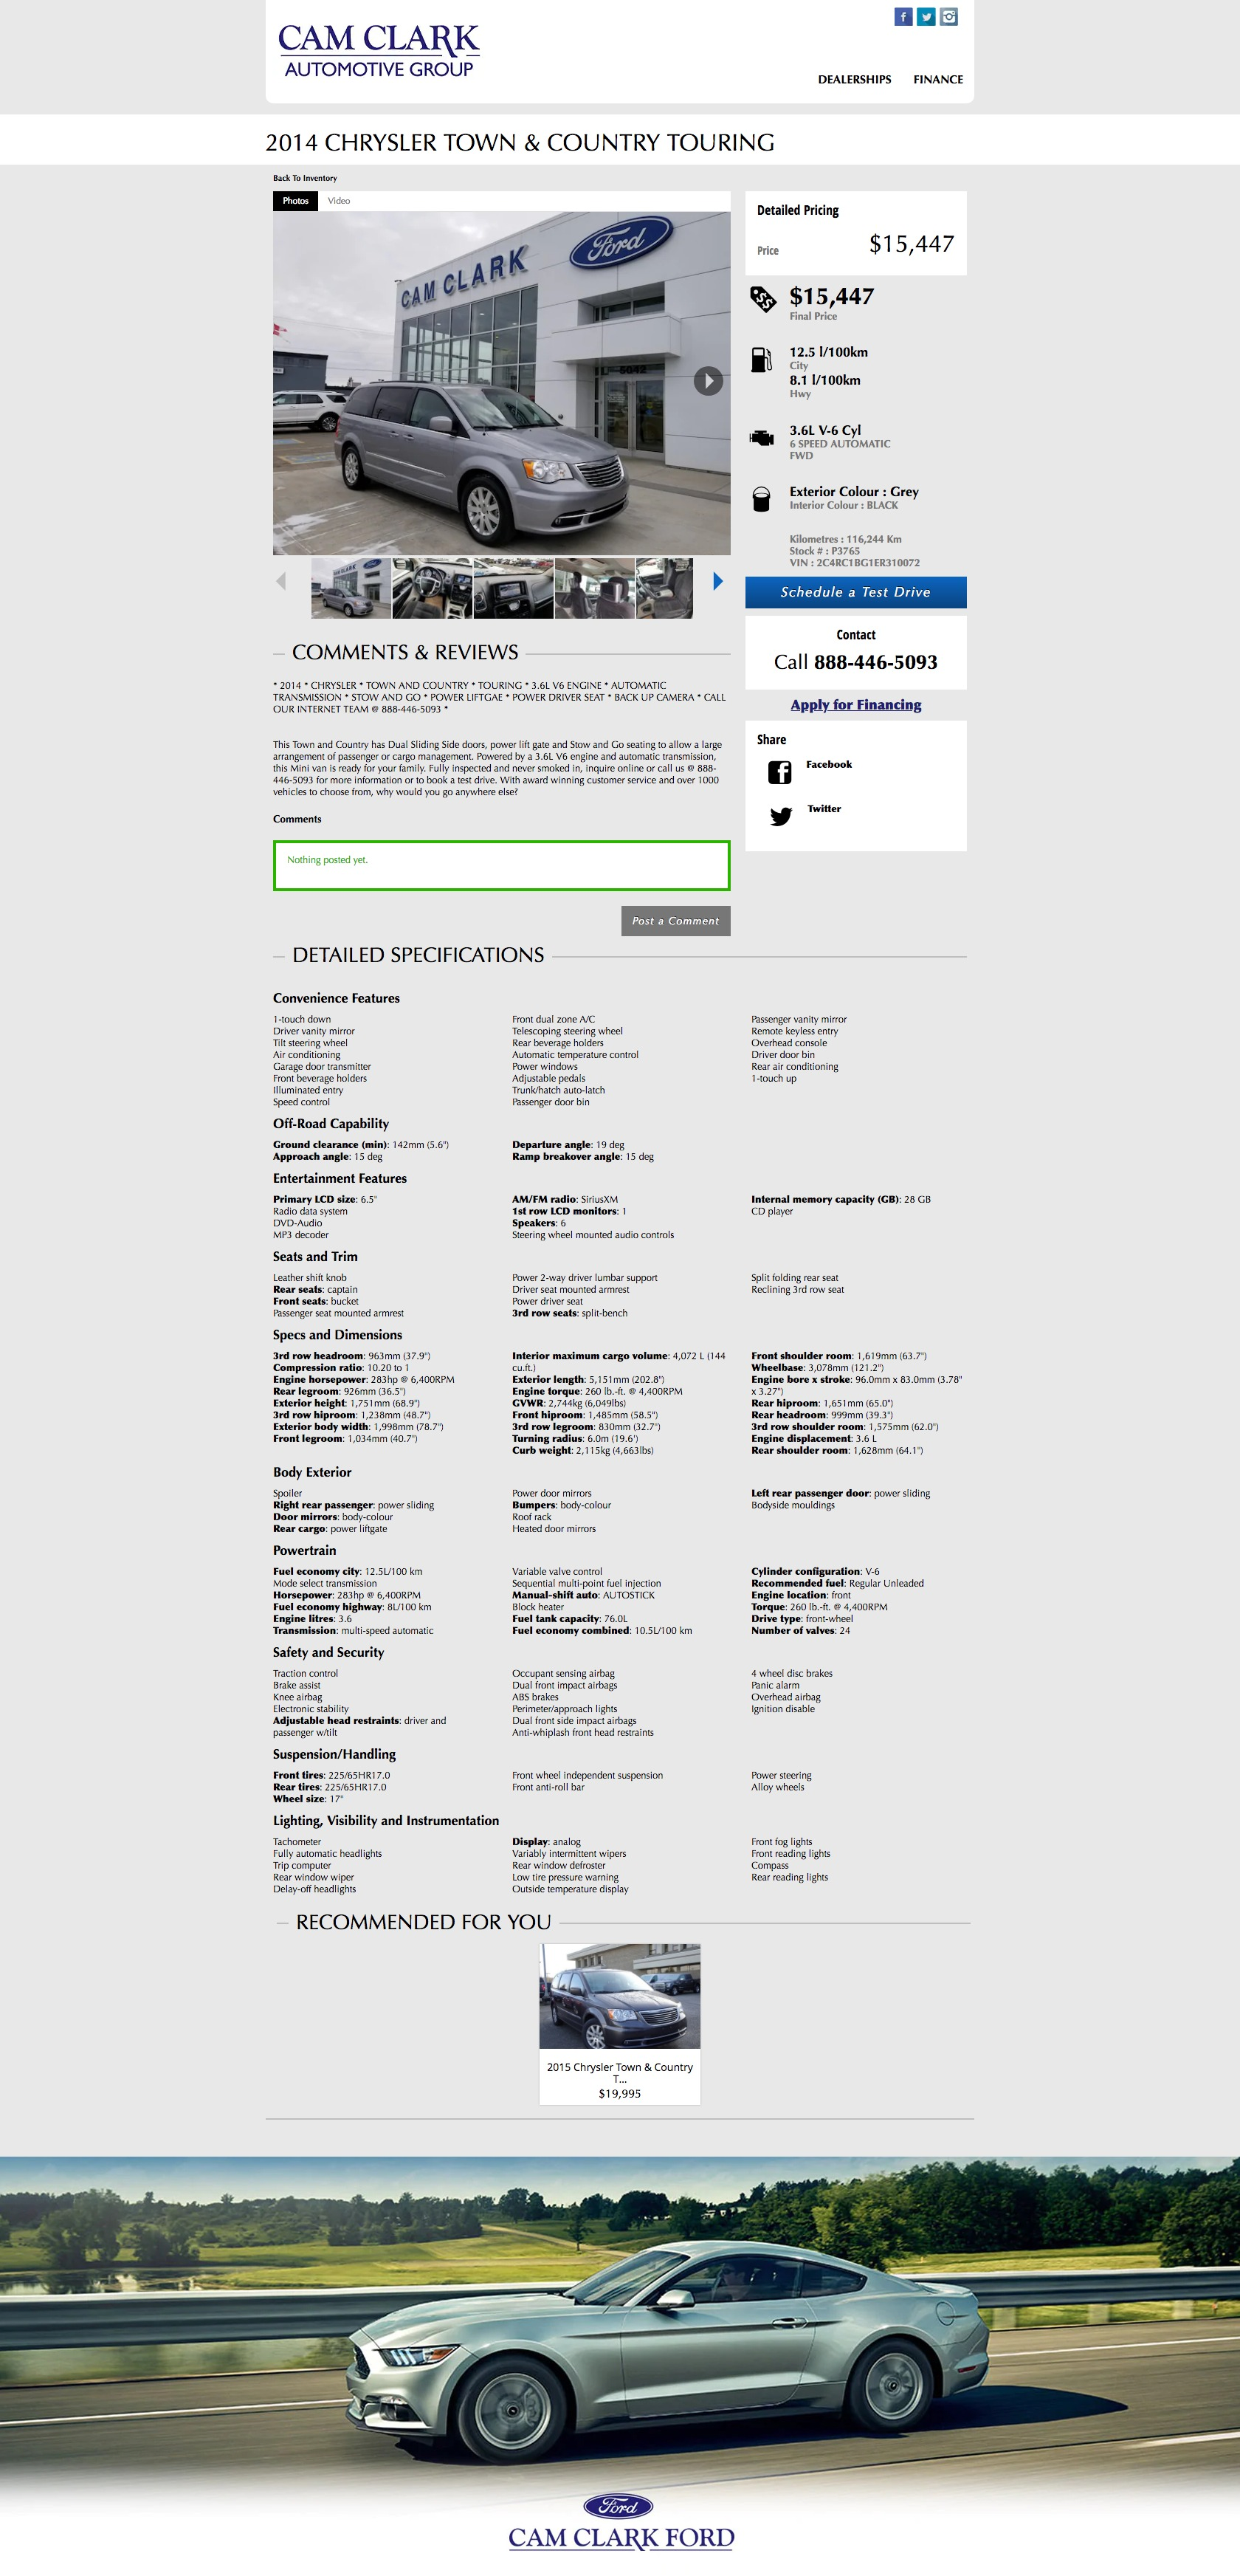car: (713, 570, 724, 593)
